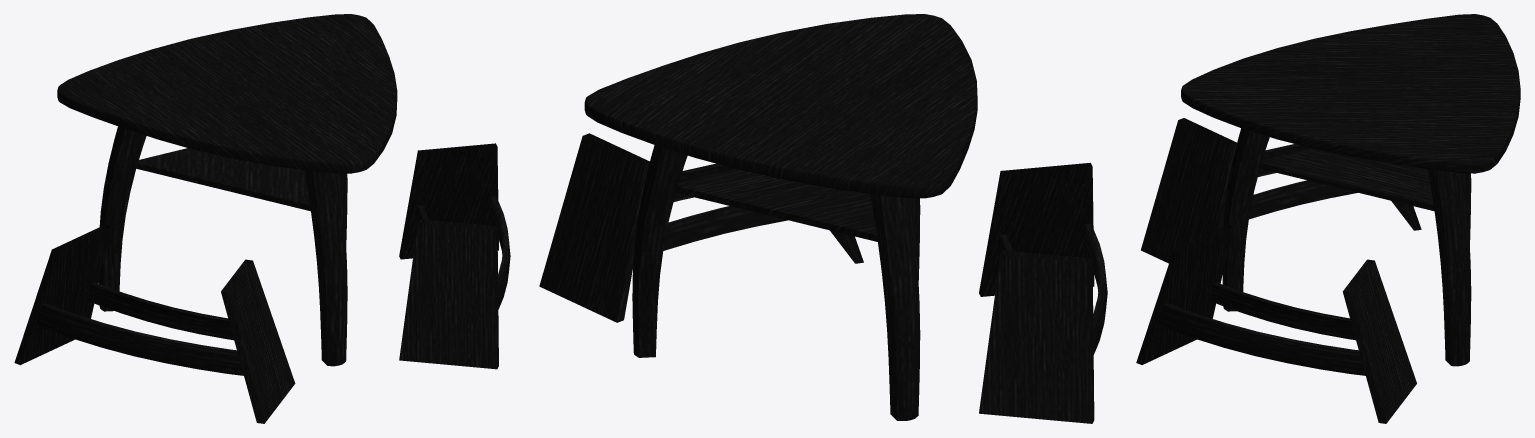
The model's file is TriTable.fbx.
3 renders of one model, left to right at view 1: azimuth 30°, elevation 25°; view 2: azimuth 150°, elevation 25°; view 3: azimuth 270°, elevation 25°, orthographic. The views are drawn at different scales.
Visible parts, largest first — view 1: TriTable; view 2: TriTable; view 3: TriTable.
Boxes of the visible parts, x1,y1,x2,y2 form: TriTable: (14, 14, 510, 423); TriTable: (539, 14, 1107, 423); TriTable: (1136, 14, 1520, 423).
Size of the model in its own units: 242 by 105 by 168.
Materials: 1 (1 with a texture image).
